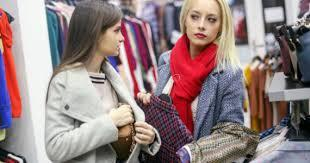shoplifting: (96, 85, 186, 158)
